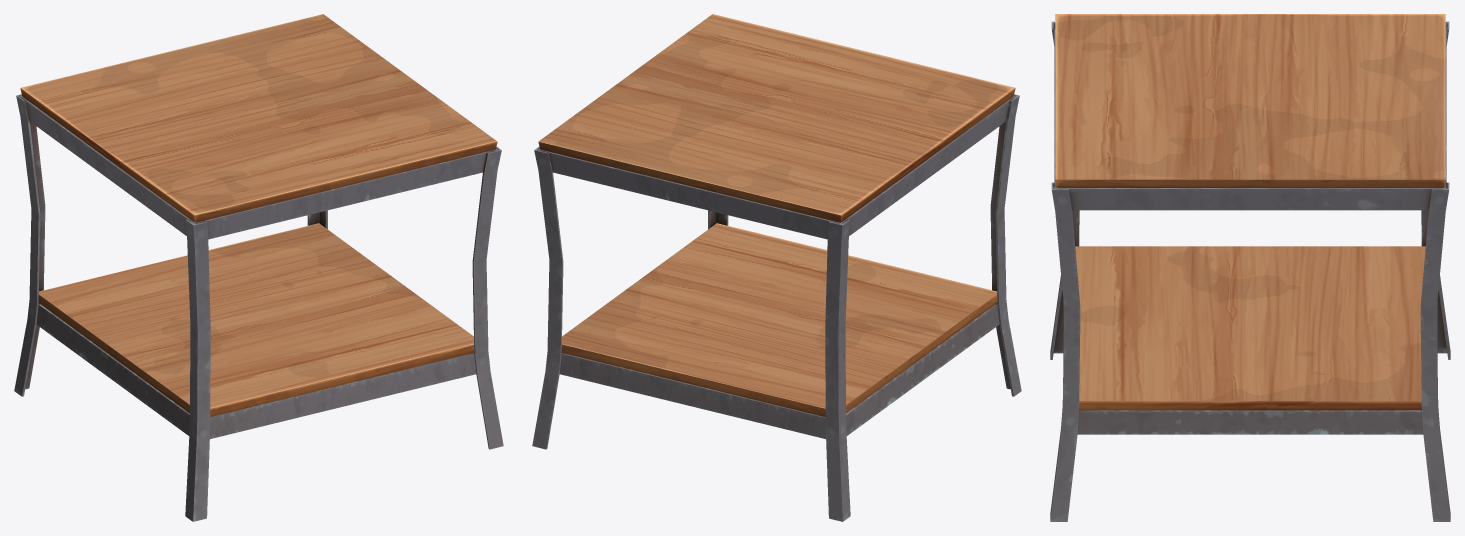
Rendered from Table03_3.FBX.
3 renders of one model, left to right at view 1: azimuth 30°, elevation 25°; view 2: azimuth 150°, elevation 25°; view 3: azimuth 270°, elevation 25°, orthographic. The views are drawn at different scales.
Visible parts, largest first — view 1: Table03_3; view 2: Table03_3; view 3: Table03_3.
Part boxes in pixels (box(x1,y1,x2,y2)): Table03_3: box(14, 14, 503, 521); Table03_3: box(532, 14, 1021, 521); Table03_3: box(1050, 14, 1450, 521).
Size of what is drawn, in the model's own units: 0.8025 by 0.75 by 0.8.
